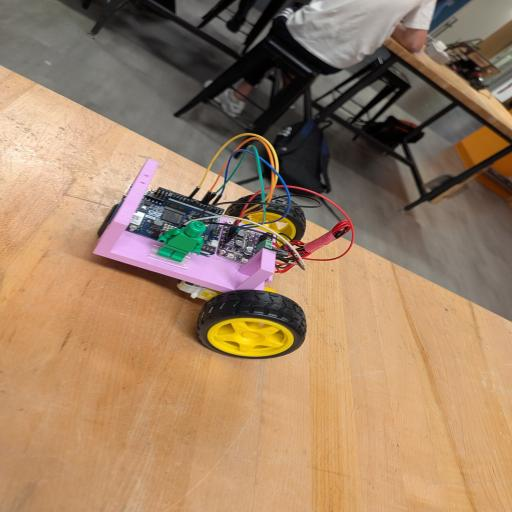Minifig: (158, 221, 206, 262)
